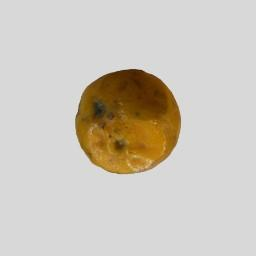Ripe: (75, 70, 179, 172)
